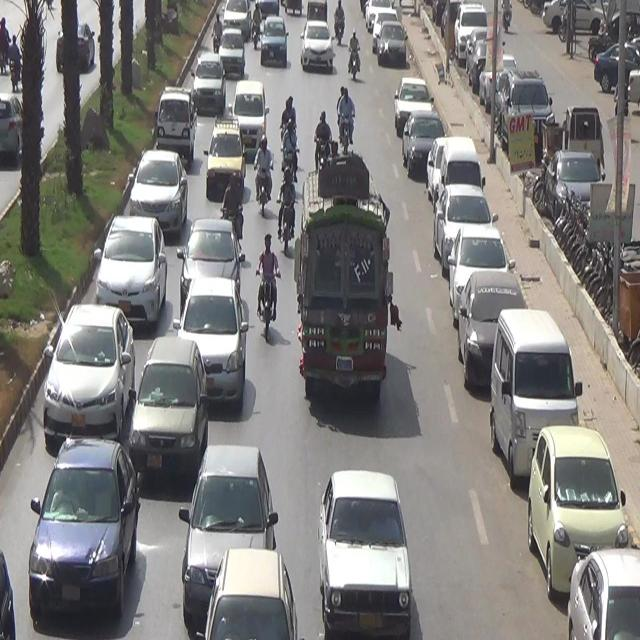car: (175, 442, 278, 619), (311, 463, 419, 630), (25, 452, 135, 608), (42, 298, 133, 446), (136, 336, 211, 474), (172, 281, 248, 411), (95, 218, 171, 324), (180, 222, 250, 314), (125, 144, 189, 239), (205, 125, 247, 194), (233, 82, 277, 142), (209, 19, 250, 80), (258, 19, 293, 87), (189, 62, 228, 118), (303, 20, 338, 74)
motorbike: (254, 226, 282, 352), (333, 75, 364, 170), (277, 165, 302, 255), (251, 130, 276, 220), (313, 108, 341, 182), (278, 92, 303, 172), (348, 40, 364, 90)
truck: (147, 90, 202, 153)
